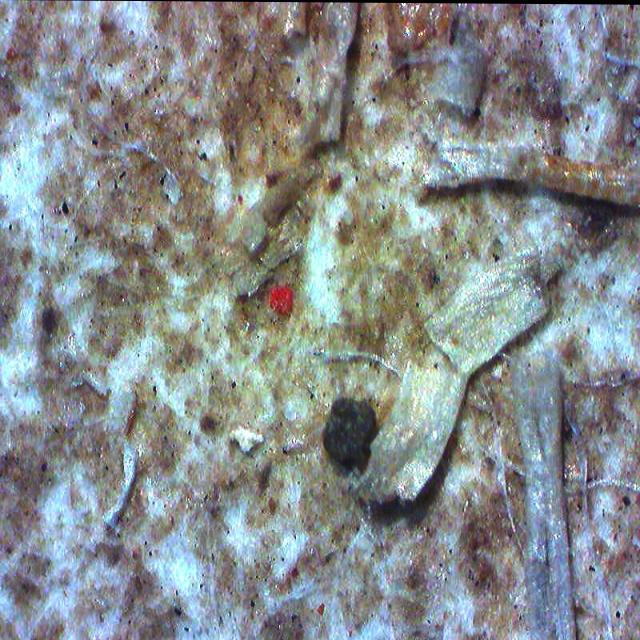microplastic: (268, 284, 293, 316)
